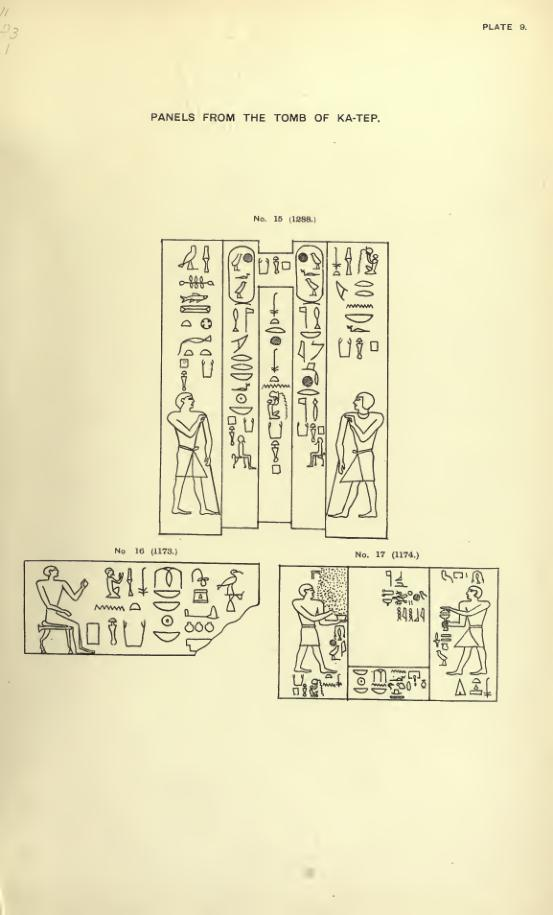circle: (226, 244, 257, 306), (294, 244, 325, 305)
